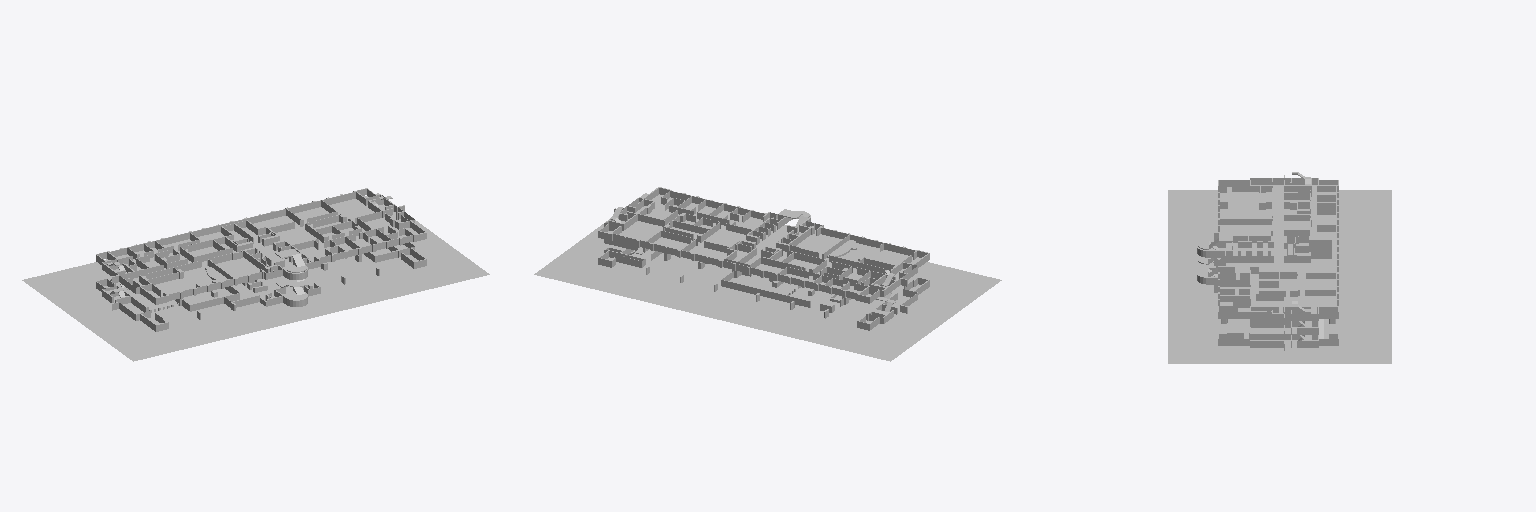
The model's file is segundo_andar.obj.
3 renders of one model, left to right at view 1: azimuth 30°, elevation 25°; view 2: azimuth 150°, elevation 25°; view 3: azimuth 270°, elevation 25°, orthographic.
Size of the model in its own units: 78.33 by 8.97 by 42.4.